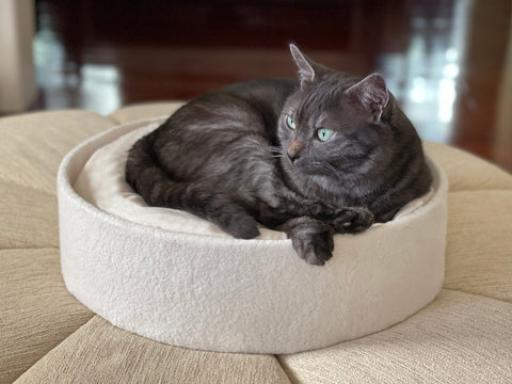cat_sleeping: (126, 45, 431, 265)
